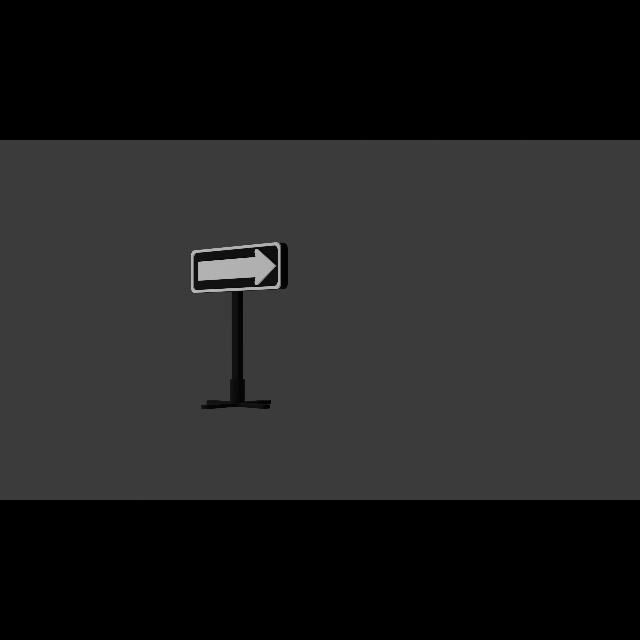sign_oneway_right: (192, 244, 288, 294)
